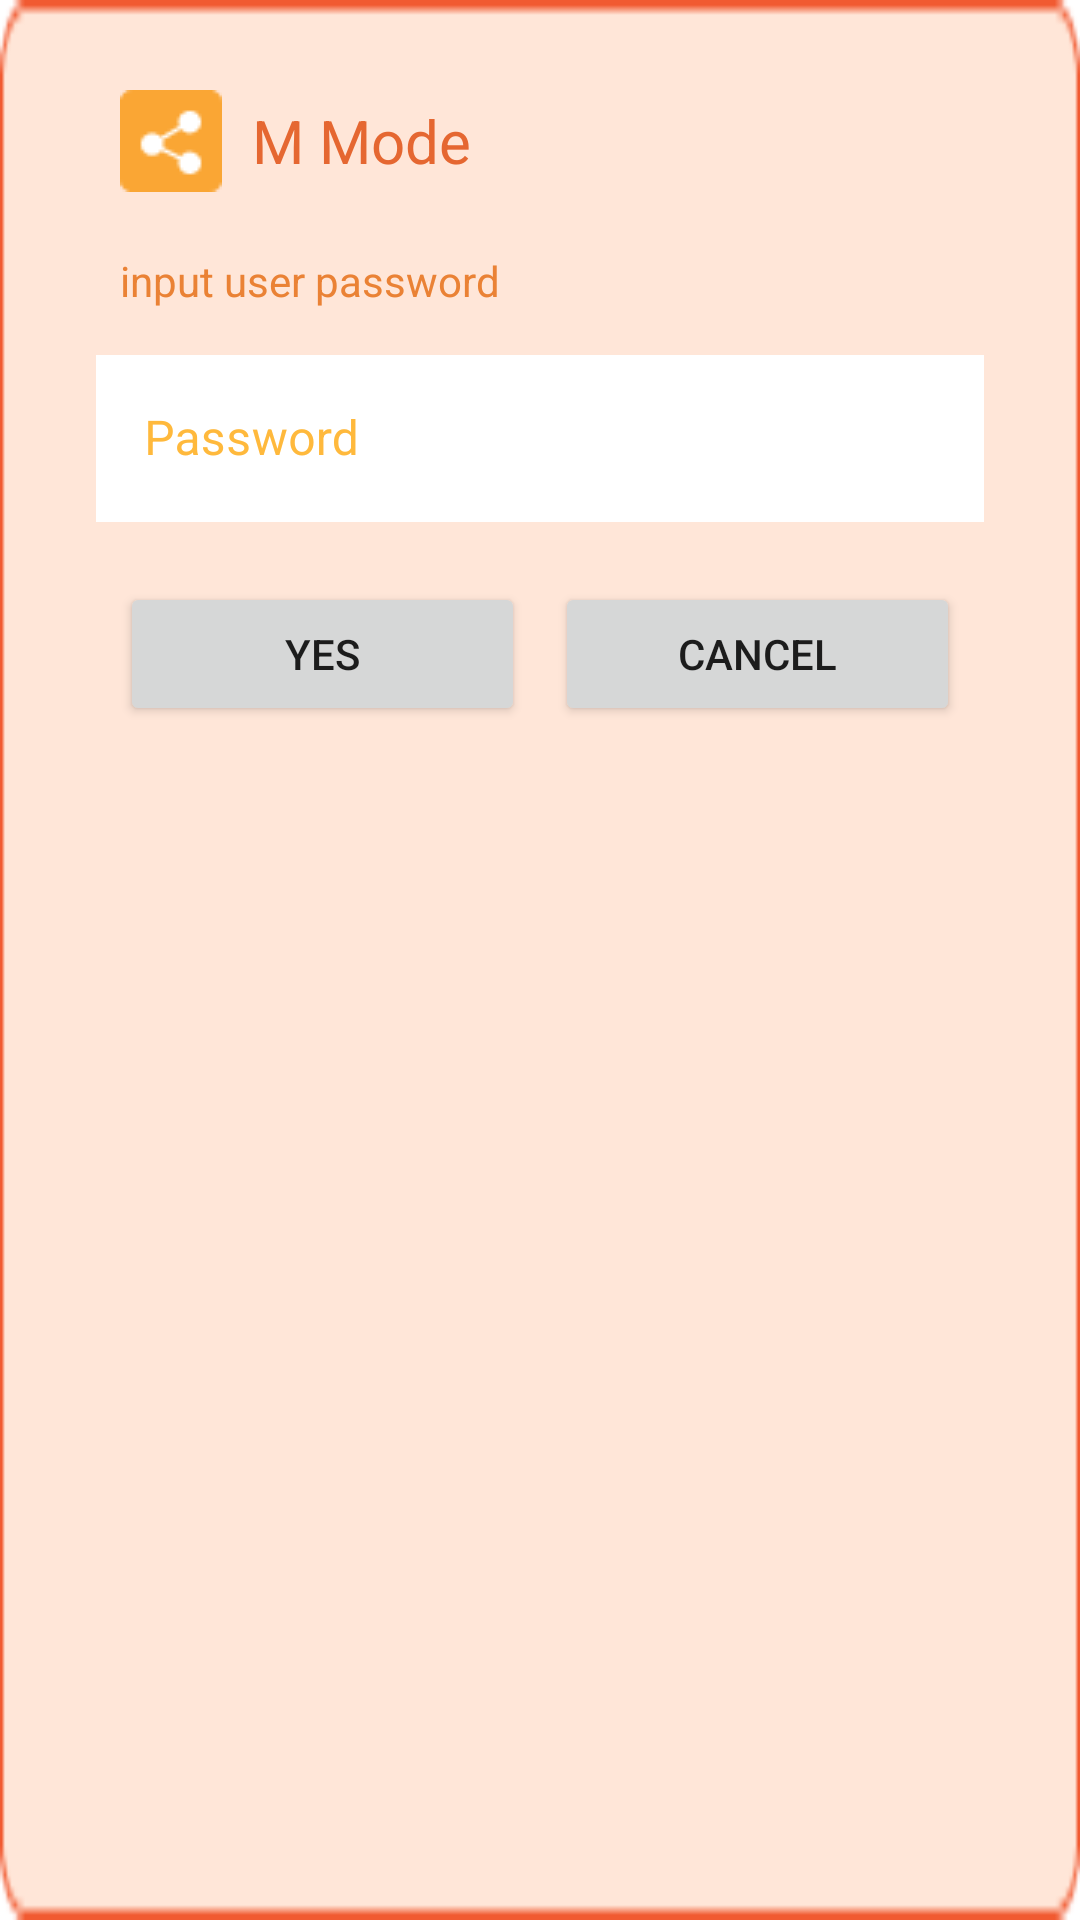

Point at icon controls on the screen. Image size 1080 × 1920, points as (x,y).
share: (171,141)
